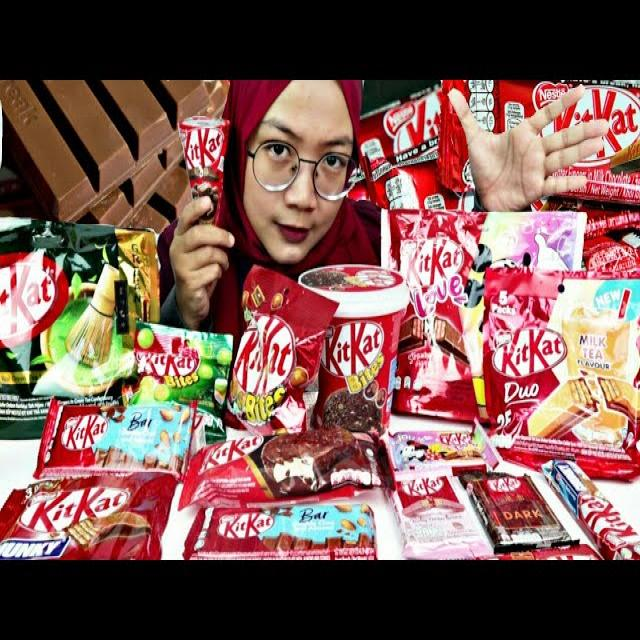kitkat: (485, 274, 640, 468), (235, 266, 328, 437), (7, 476, 170, 564), (196, 487, 378, 562), (42, 394, 190, 482), (131, 324, 234, 449), (474, 474, 578, 560), (552, 464, 640, 564)
